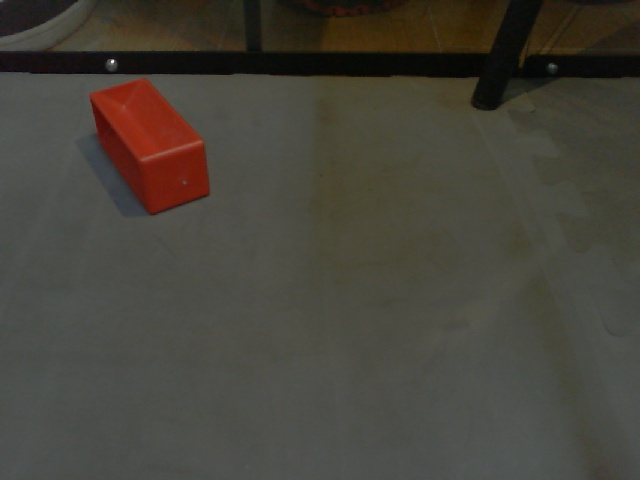RedSample: (86, 77, 211, 216)
